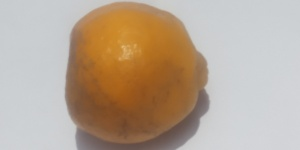BAD: (62, 1, 209, 144)
